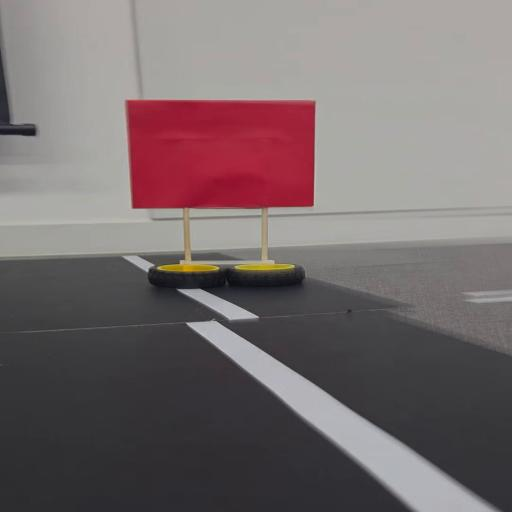Sign_A: (117, 95, 318, 298)
